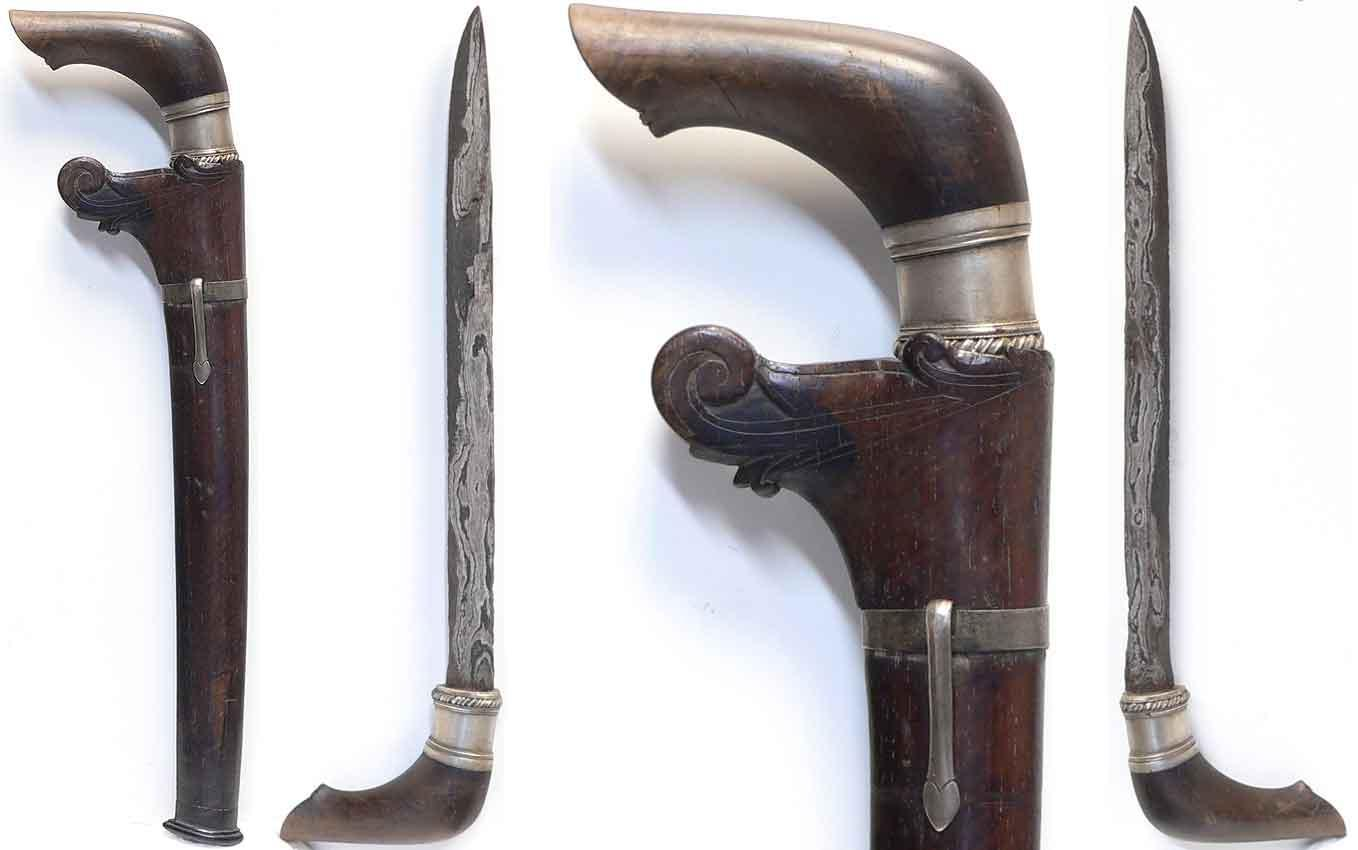facao: (1120, 9, 1345, 842), (280, 8, 501, 846)
